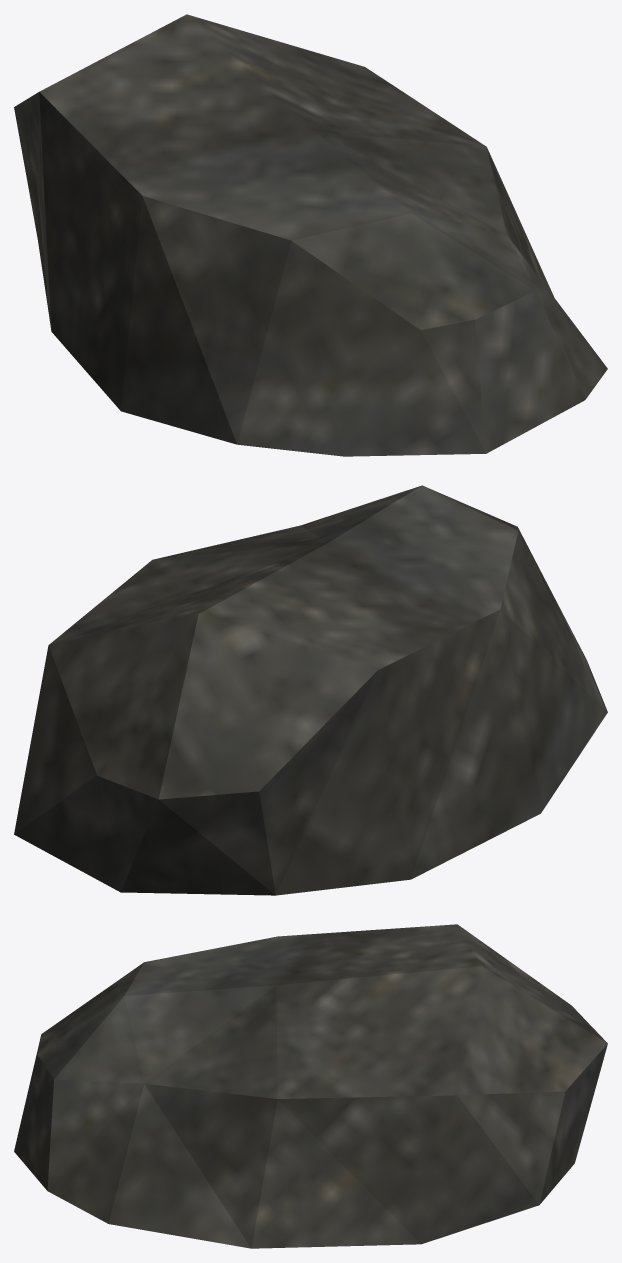
The model's file is Rock01b.obj.
3 renders of one model, top to bottom at view 1: azimuth 30°, elevation 25°; view 2: azimuth 150°, elevation 25°; view 3: azimuth 270°, elevation 25°, orthographic. The views are drawn at different scales.
Parts seen in each view (by area): view 1: Rock01; view 2: Rock01; view 3: Rock01.
Boxes of the visible parts, x1=… form: Rock01: x1=14, y1=14, x2=607, y2=456; Rock01: x1=14, y1=485, x2=607, y2=895; Rock01: x1=14, y1=924, x2=607, y2=1248.
Size of the model in its own units: 1.52 by 0.8879 by 2.28.
